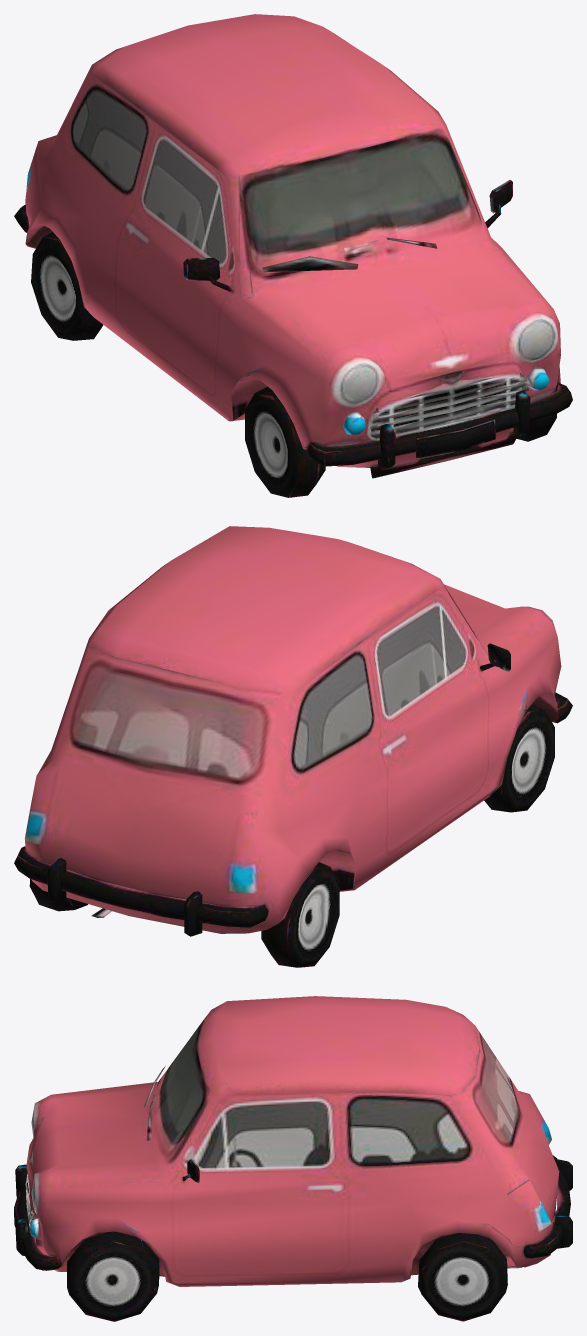
Rendered from car_b.glb.
3 views of the same model, one above another, from view 1: azimuth 30°, elevation 25°; view 2: azimuth 150°, elevation 25°; view 3: azimuth 270°, elevation 25° (orthographic). The views are drawn at different scales.
Size of the model in its own units: 2.12 by 1.82 by 3.8.
Materials: 1 (1 with a texture image).
